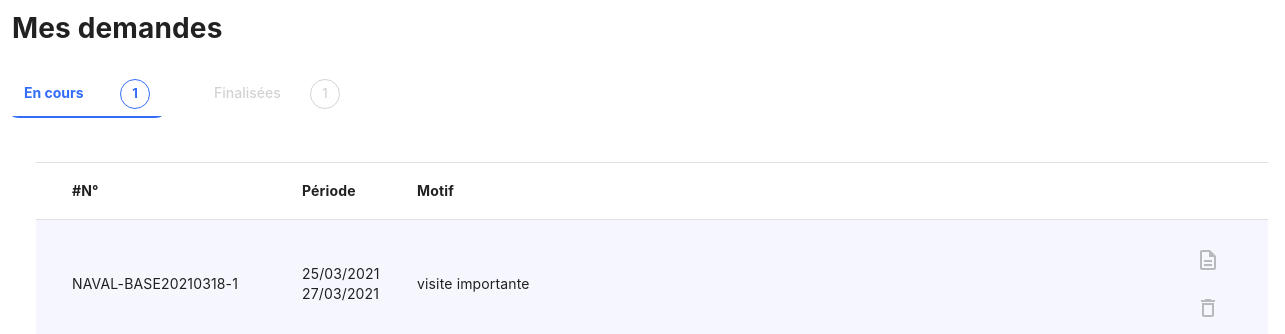
Test: Container: MyAccessRequests › change of table
The image size is (1285, 334).
Step 1. Click the tab "Finalisées 1" → click(277, 94), box [202,70,352,118]
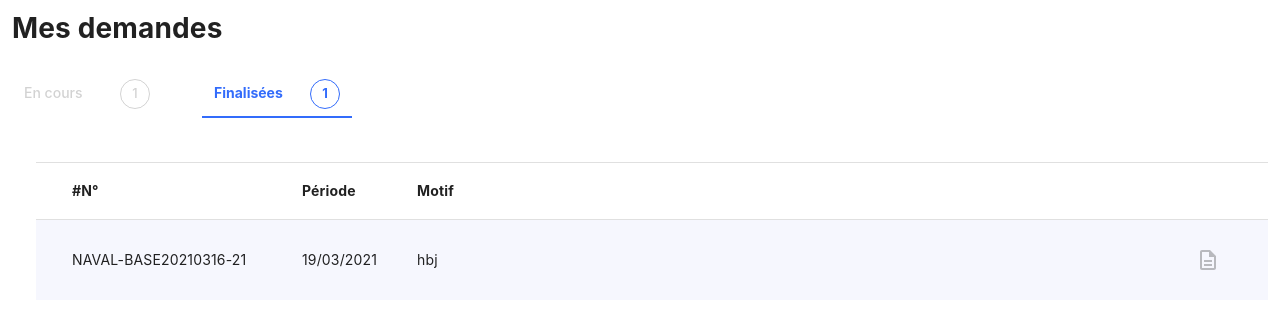
Expected: the text "NAVAL-BASE20210316-21" is shown, [56,220,286,300]
